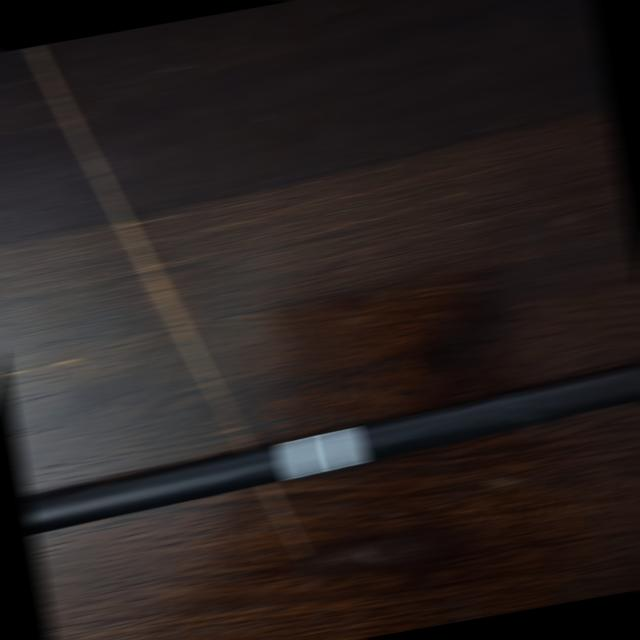white: (273, 426, 365, 481)
